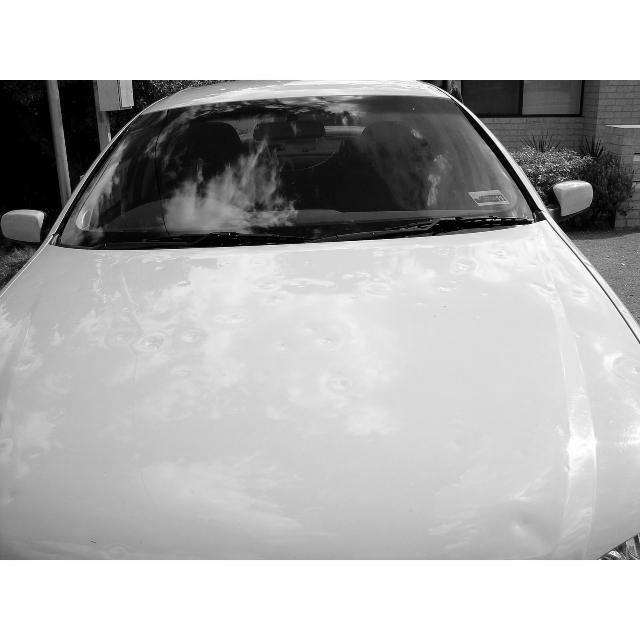bonnet-dent: (4, 249, 620, 558)
